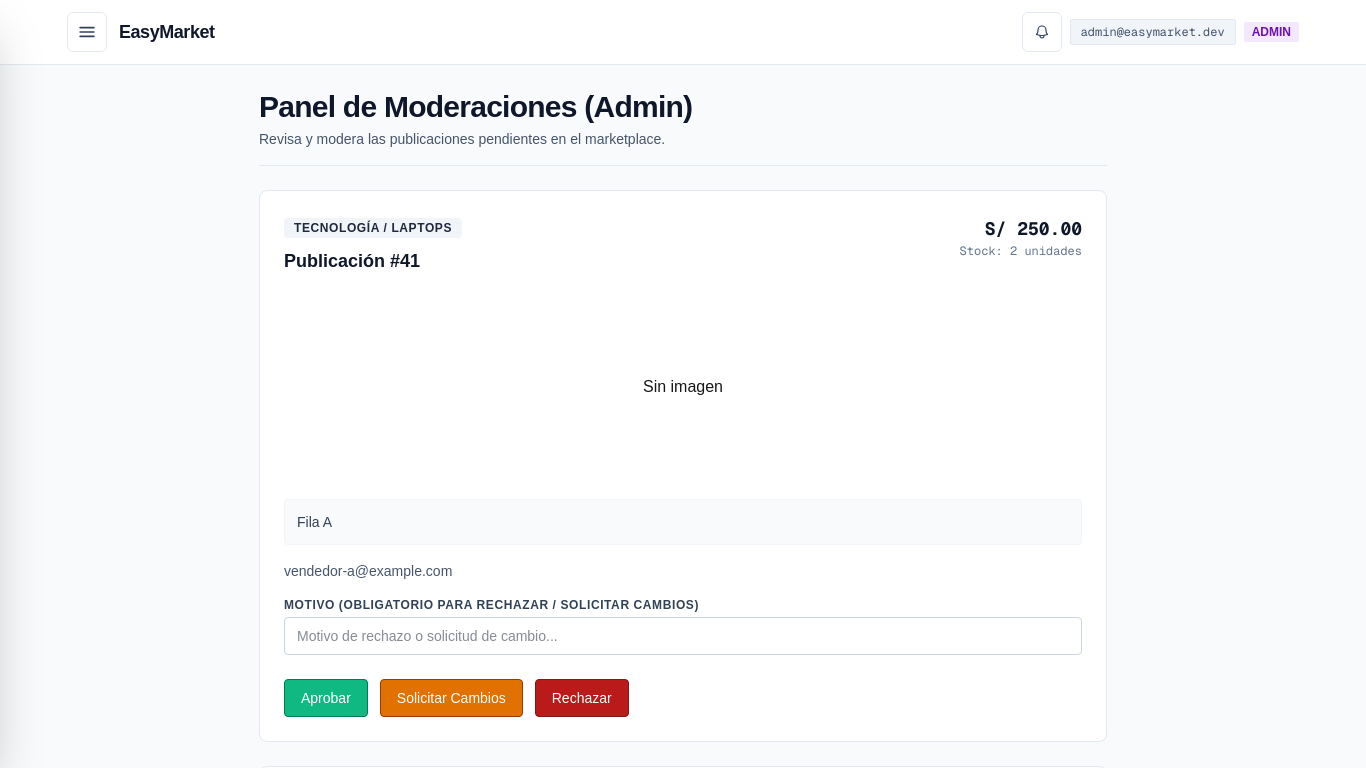
PHA06TSK13-L02 - cobertura administrativa requerida › valida el motivo de otra publicación aunque una moderación siga en vuelo, sin segundo PATCH
Type "Corregir categoría" into the field labelled "Motivo (Obligatorio para Rechazar / Solicitar Cambios)".
click(683, 636); type("Corregir categoría")  # box [284,617,1082,655]
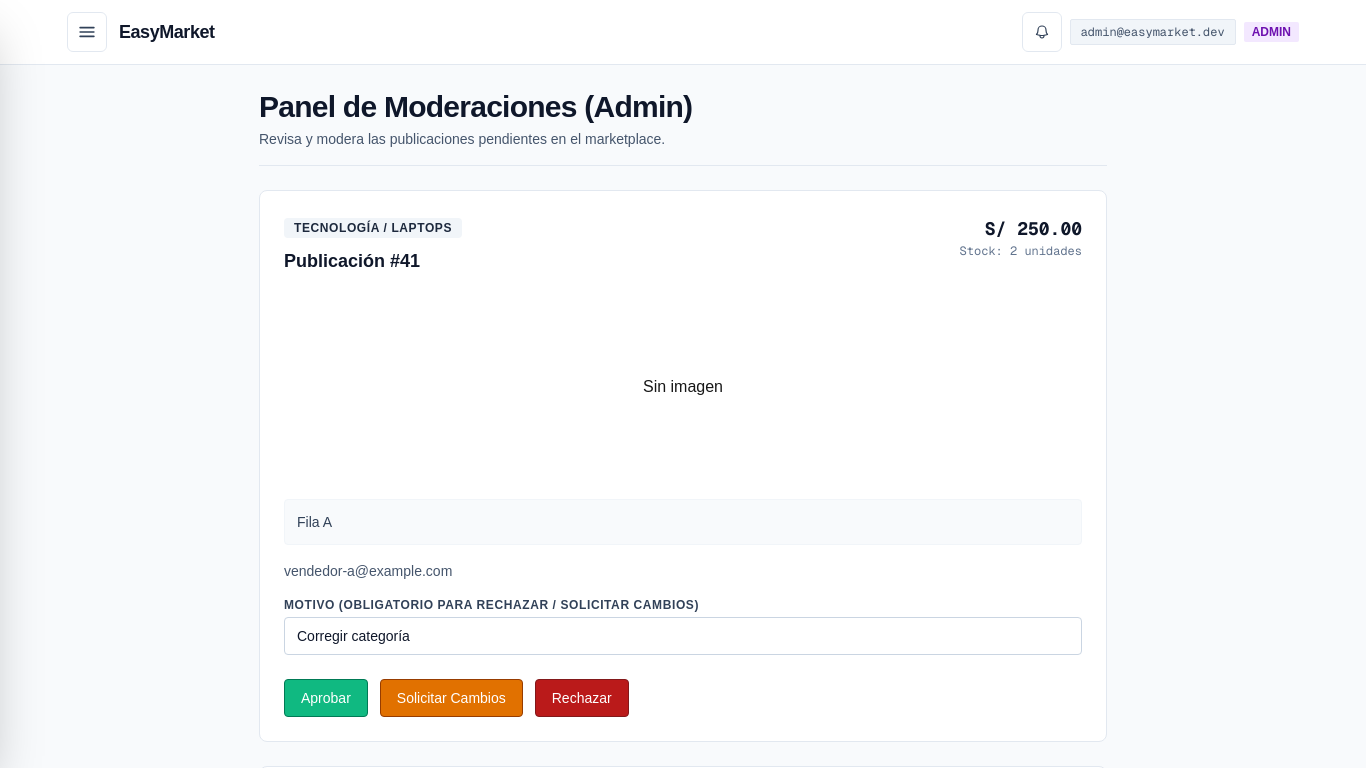
Click the button "Solicitar Cambios".
click(451, 698)  # box [380,679,523,717]
(page scrolled)
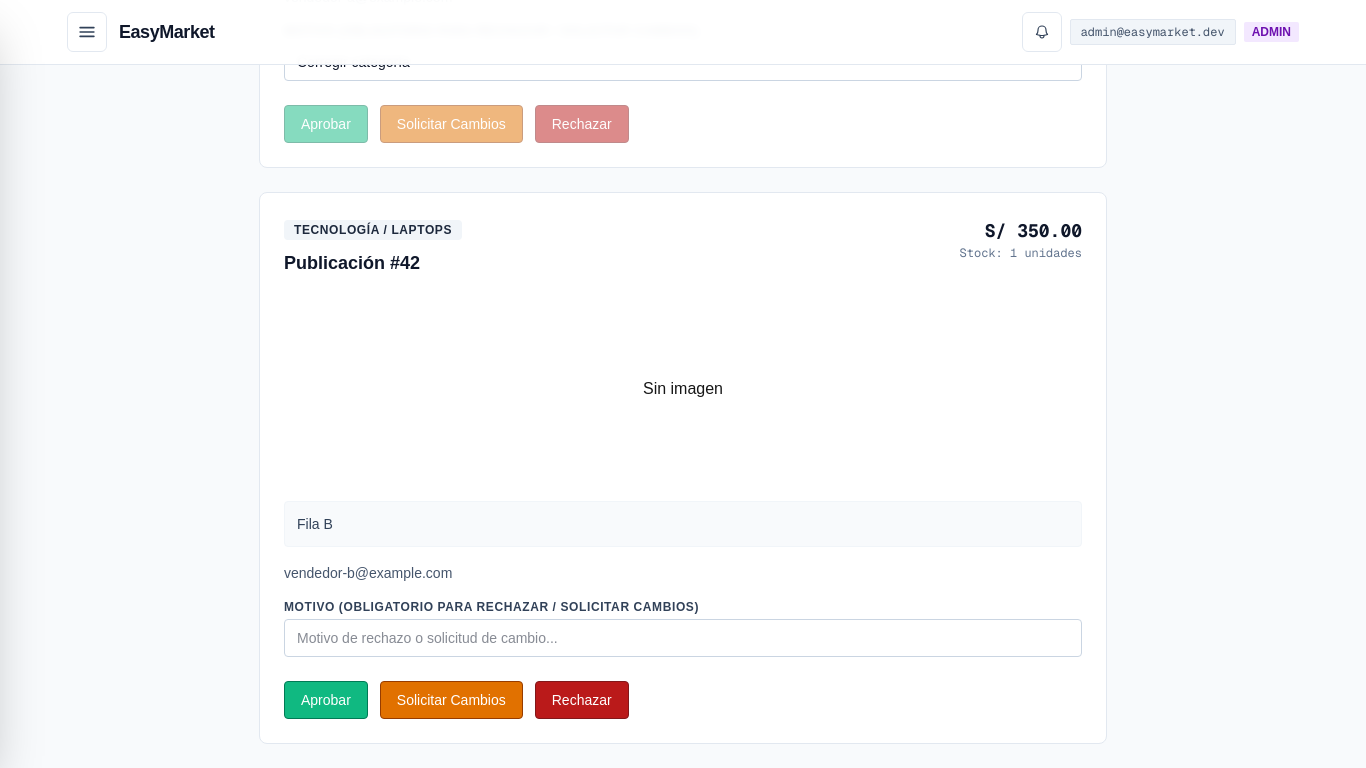
Click the button "Solicitar Cambios" below "vendedor-b@example.com".
click(451, 700)  # box [380,681,523,719]
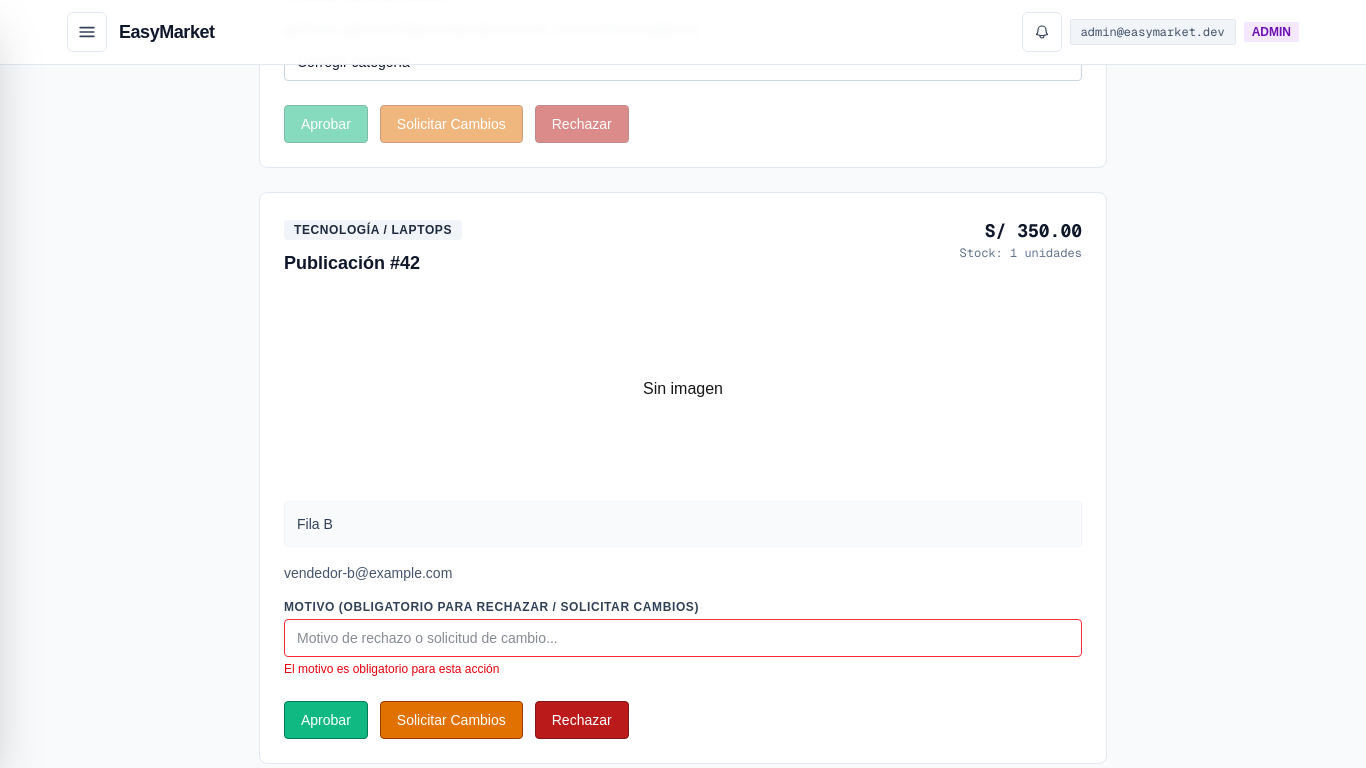
Check: the text "El motivo es obligatorio para esta acción" is shown, box [284,662,500,676]
